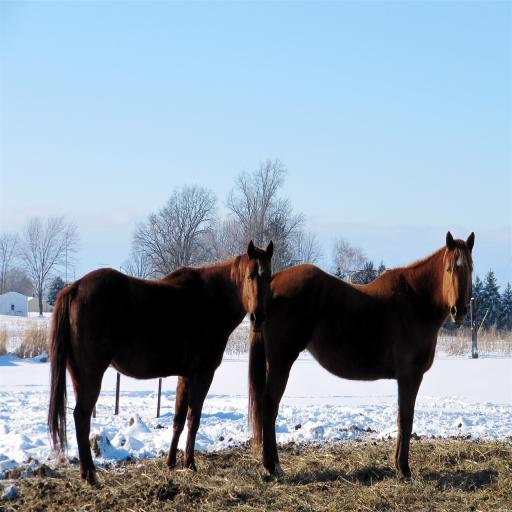horse: (44, 235, 275, 487), (246, 228, 474, 478)
